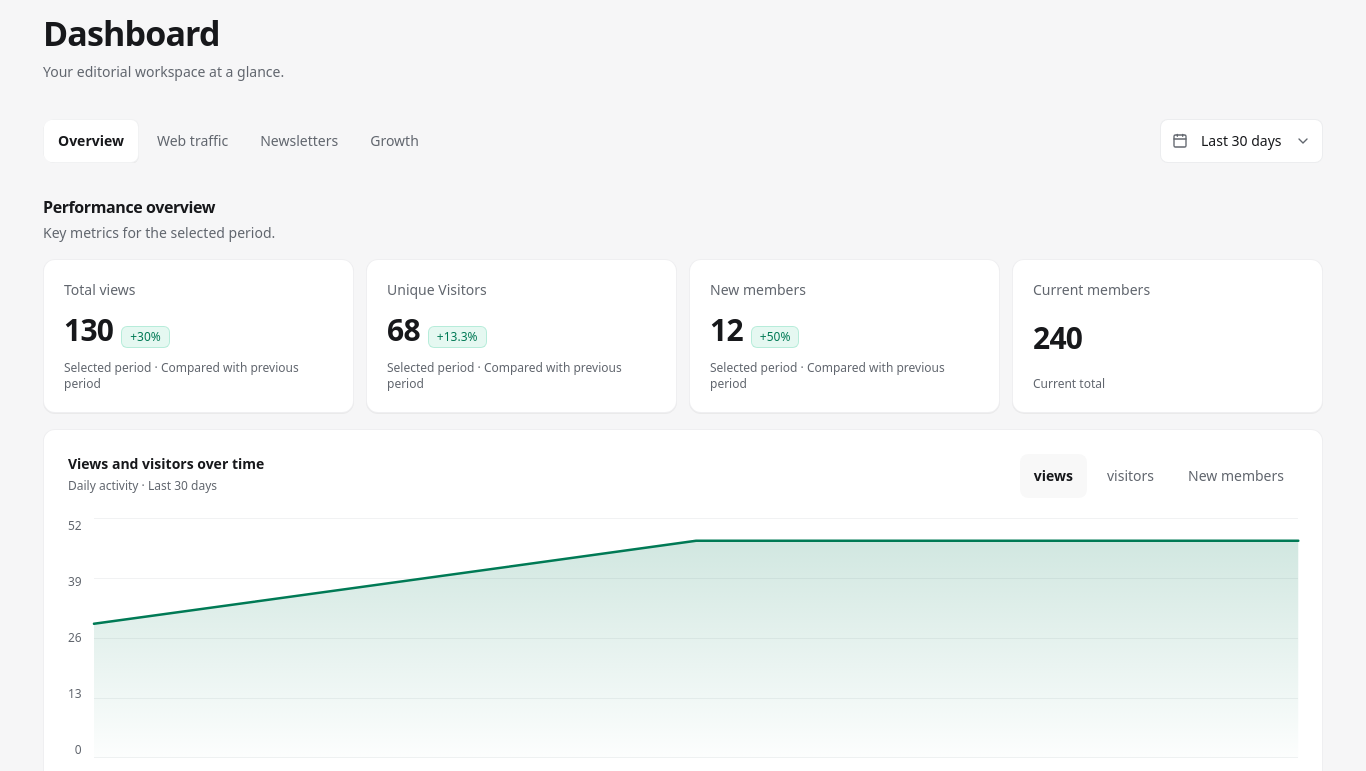
AnalyticsDashboard clarity and accessible chart › labels membership totals as unfiltered
Click the tab "Growth" at [394, 141], box [356,119,433,163]
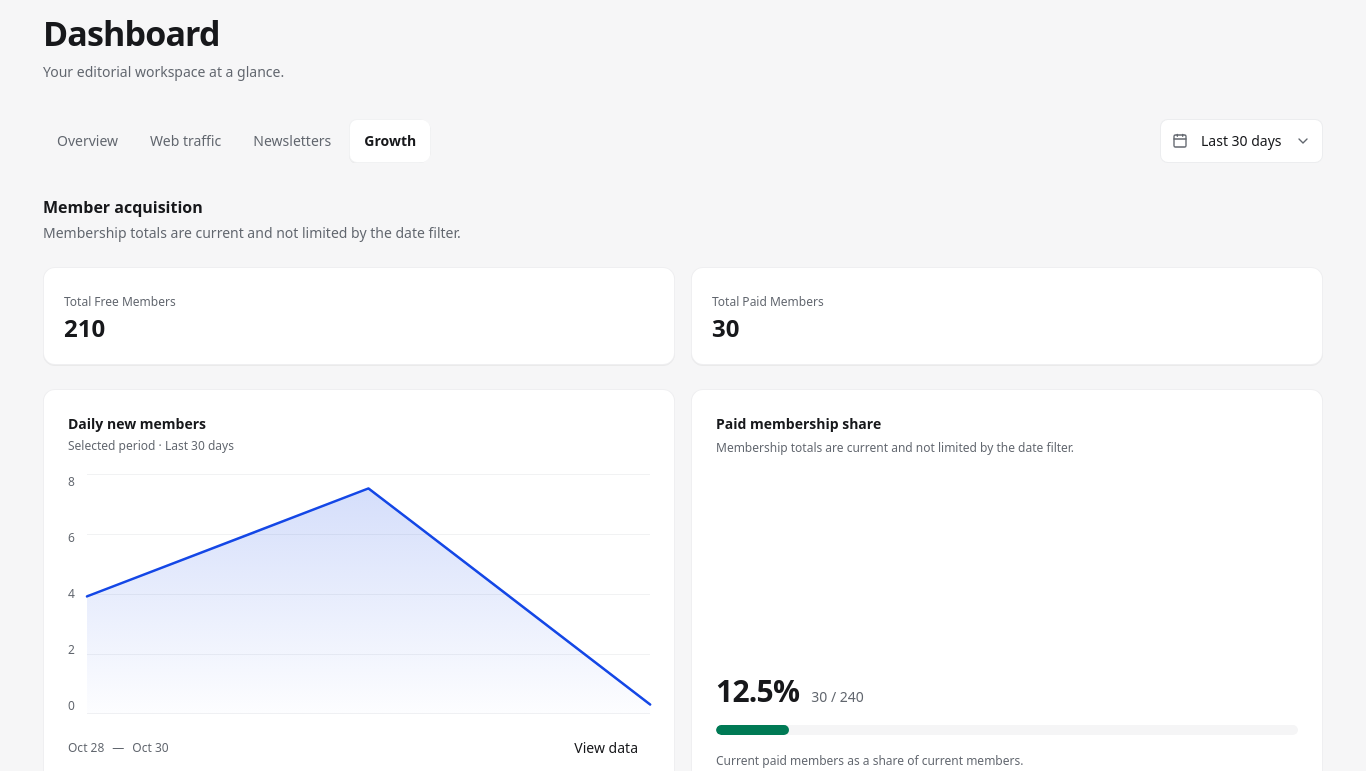
Result: the text "Membership totals are current and not limited by the date filter." is shown at [43,223,461,242]
